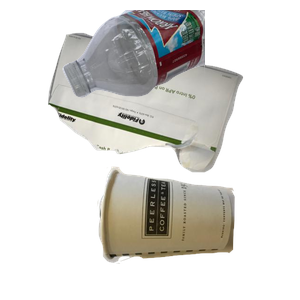glass: (96, 190, 230, 300)
paper: (45, 30, 281, 195)
plastic: (60, 10, 300, 100)
trash: (95, 164, 300, 300)
